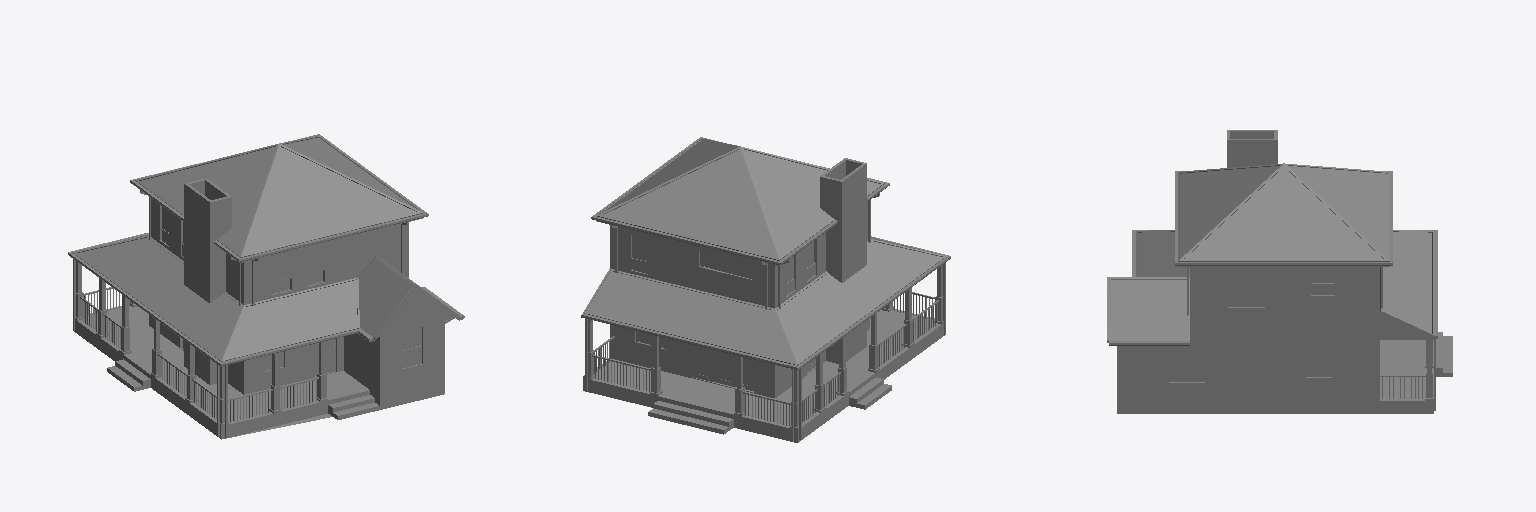
Rendered from 247_house.obj.
3 views of the same model, side by side, from view 1: azimuth 30°, elevation 25°; view 2: azimuth 150°, elevation 25°; view 3: azimuth 270°, elevation 25° (orthographic).
Parts seen in each view (by area): view 1: 247obj05, 247obj32, 247obj07, 247obj09, 247obj01, 247obj34, 247obj06, 247obj28, 247obj02, 247obj31, 247obj04, 247obj30 (+6 smaller); view 2: 247obj32, 247obj05, 247obj07, 247obj34, 247obj01, 247obj06, 247obj09, 247obj02, 247obj16, 247obj30, 247obj31, 247obj04 (+4 smaller); view 3: 247obj05, 247obj09, 247obj01, 247obj07, 247obj32, 247obj28, 247obj02, 247obj06, 247obj20, 247obj04, 247obj18, 247obj17 (+7 smaller).
Part boxes in pixels (left/top/right/bottom): 247obj05: left=140, top=137, right=416, bottom=254; 247obj32: left=77, top=235, right=357, bottom=358; 247obj07: left=74, top=306, right=444, bottom=439; 247obj09: left=149, top=289, right=444, bottom=396; 247obj01: left=151, top=198, right=408, bottom=304; 247obj34: left=75, top=261, right=327, bottom=426; 247obj06: left=184, top=178, right=231, bottom=384; 247obj28: left=359, top=259, right=412, bottom=334; 247obj02: left=135, top=135, right=423, bottom=257; 247obj31: left=72, top=234, right=359, bottom=361; 247obj04: left=130, top=134, right=428, bottom=262; 247obj30: left=68, top=233, right=357, bottom=366; 247obj32: left=586, top=239, right=941, bottom=362; 247obj05: left=603, top=140, right=879, bottom=257; 247obj07: left=583, top=309, right=944, bottom=442; 247obj34: left=583, top=265, right=943, bottom=429; 247obj01: left=610, top=202, right=867, bottom=308; 247obj06: left=820, top=158, right=866, bottom=363; 247obj09: left=610, top=318, right=869, bottom=397; 247obj02: left=596, top=138, right=884, bottom=260; 247obj16: left=692, top=345, right=754, bottom=393; 247obj30: left=581, top=236, right=950, bottom=369; 247obj31: left=583, top=238, right=945, bottom=365; 247obj04: left=591, top=137, right=889, bottom=264; 247obj05: left=1180, top=166, right=1387, bottom=258; 247obj09: left=1117, top=332, right=1379, bottom=400; 247obj01: left=1190, top=267, right=1379, bottom=331; 247obj07: left=1117, top=340, right=1433, bottom=413; 247obj32: left=1138, top=232, right=1431, bottom=332; 247obj28: left=1111, top=280, right=1187, bottom=338; 247obj02: left=1178, top=163, right=1389, bottom=261; 247obj06: left=1227, top=130, right=1277, bottom=167; 247obj20: left=1228, top=271, right=1265, bottom=308; 247obj04: left=1175, top=171, right=1392, bottom=265; 247obj18: left=1168, top=345, right=1205, bottom=382; 247obj17: left=1306, top=340, right=1332, bottom=378.
Bounding box in the file's own units: 358 × 292 × 436.